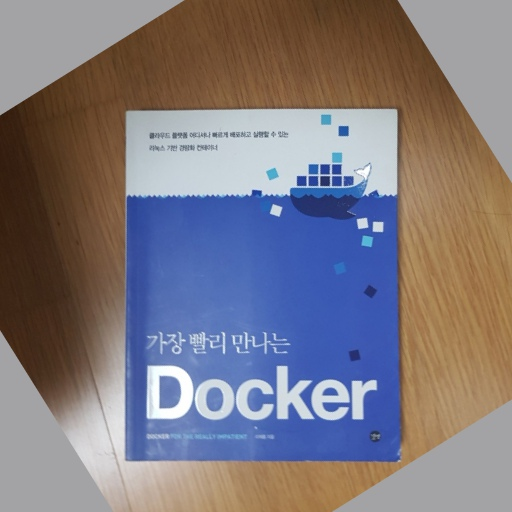Paper_0: (117, 100, 416, 468)
